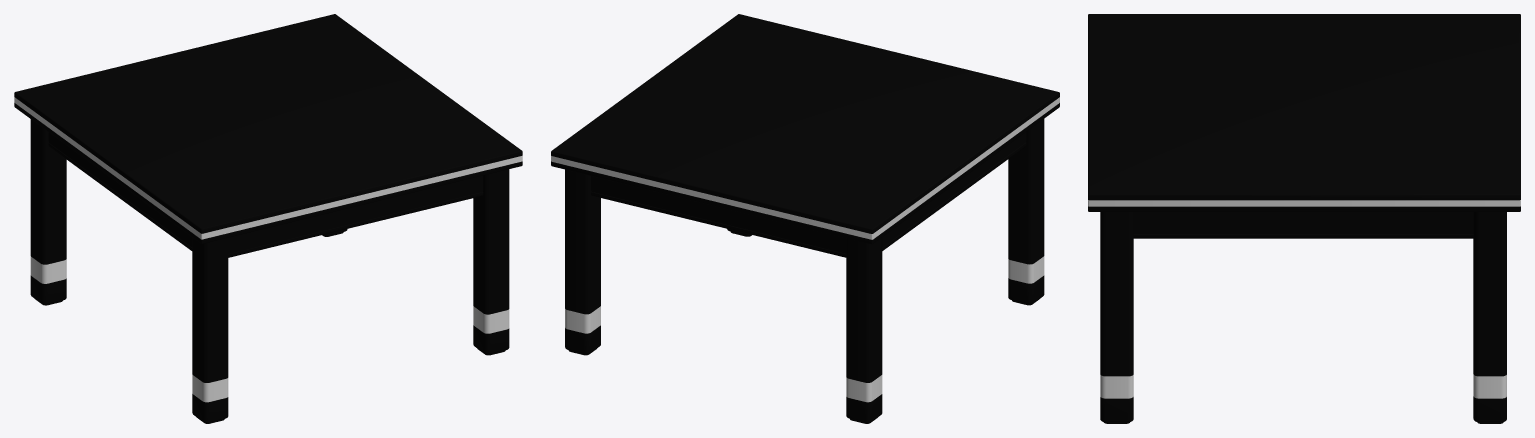
The model's file is CofeeTable.fbx.
The picture shows the model from 3 angles, left to right: view 1: azimuth 30°, elevation 25°; view 2: azimuth 150°, elevation 25°; view 3: azimuth 270°, elevation 25°; orthographic projection. The views are drawn at different scales.
Parts seen in each view (by area): view 1: CoffeTable; view 2: CoffeTable; view 3: CoffeTable.
Part boxes in pixels (bbox=[...]): CoffeTable: bbox=[14, 14, 522, 423]; CoffeTable: bbox=[551, 14, 1059, 423]; CoffeTable: bbox=[1088, 14, 1520, 423].
Size of the model in its own units: 1.31 by 1.3 by 0.7853.
